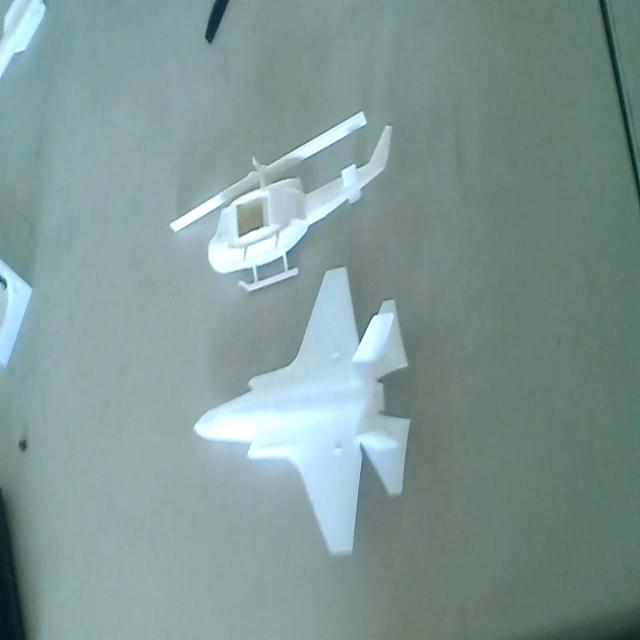Helicopter: (172, 112, 406, 290)
Jet: (190, 266, 416, 559)
Rocket: (0, 0, 57, 92)
